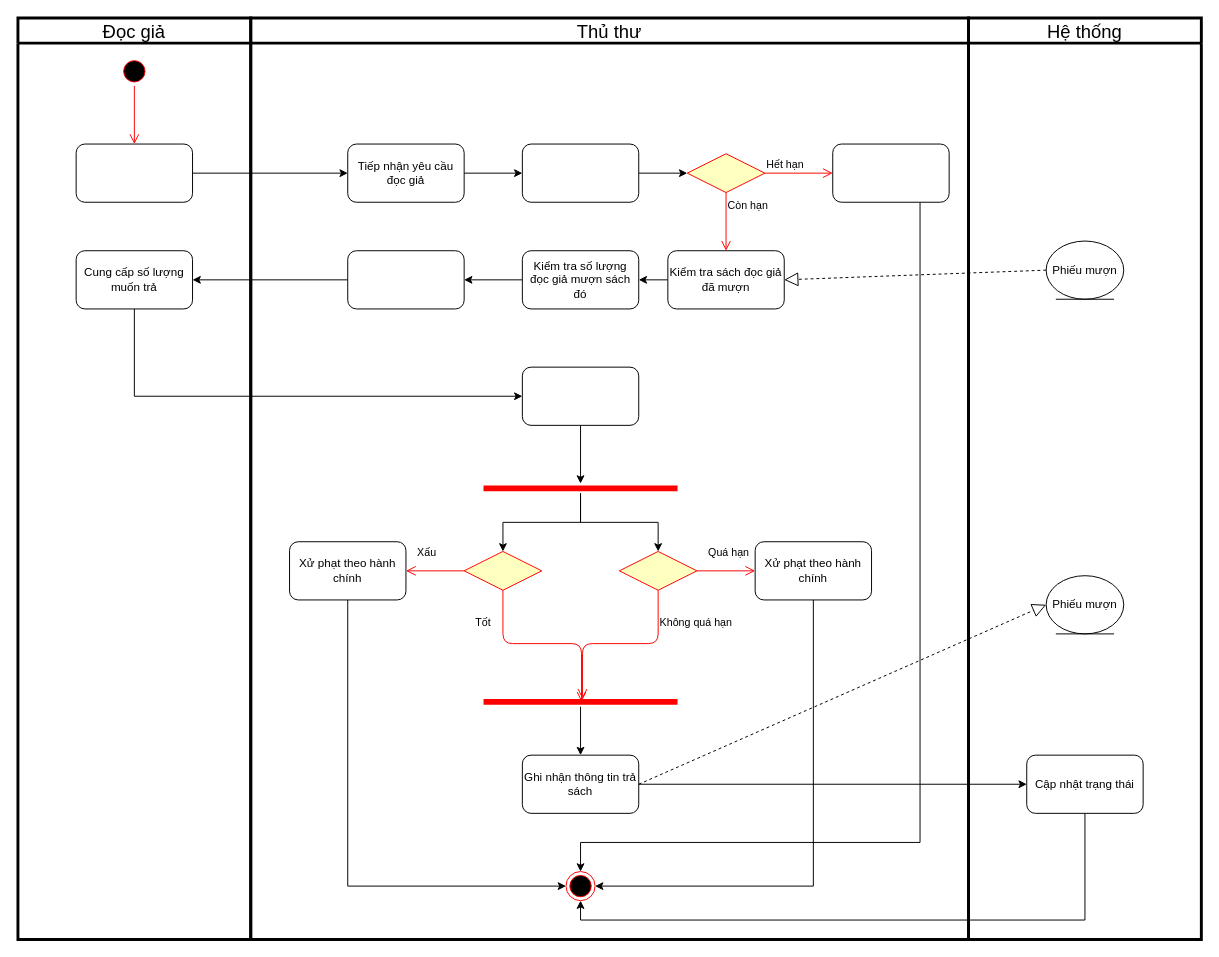
Image size: 1219x957. Some labels were removed from this diagram. Here are the shapes that lost their labels. From the top down, the centre of each, then its label:
At point 134,172: "Yêu cầu trả sách".
At point 580,172: "Kiểm tra thẻ đọc giả".
At point 890,172: "Thông báo thẻ hết hạn và yêu cầu làm thẻ mới".
At point 405,279: "Yêu cầu cung cấp số lượng muốn trả".
At point 580,395: "Kiểm tra tình trang sách và ngày hẹn trả".
At point 502,570: "Tình trạng".
At point 657,570: "Ngày hẹn trả".
